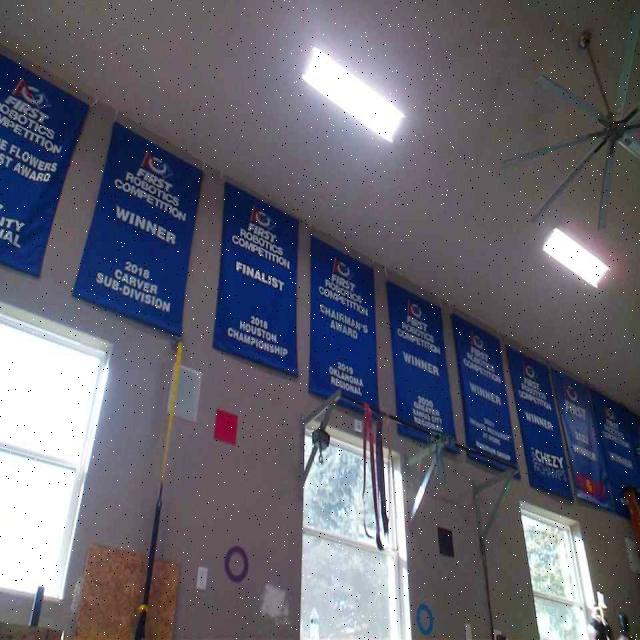ring_blue: (415, 602, 433, 634)
ring_purple: (223, 546, 248, 580)
square_black: (436, 526, 454, 556)
square_red: (212, 407, 239, 445)
